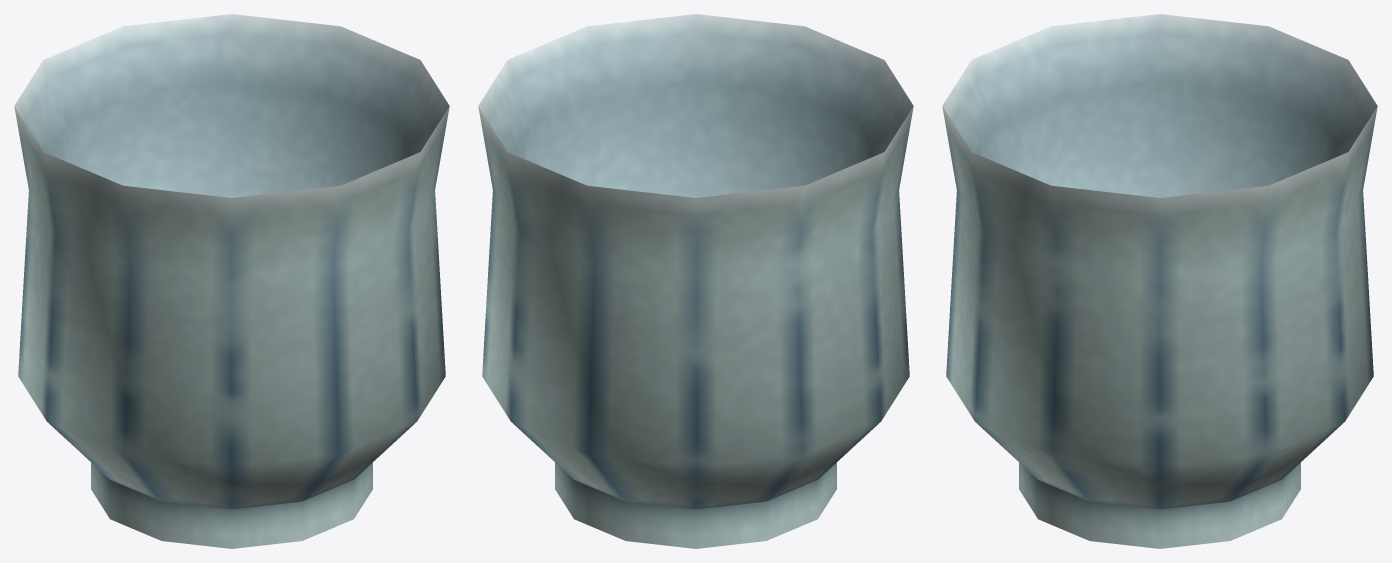
The model's file is KR_Tea_bowl_01_02.fbx.
3 views of the same model, side by side, from view 1: azimuth 30°, elevation 25°; view 2: azimuth 150°, elevation 25°; view 3: azimuth 270°, elevation 25° (orthographic).
Visible parts, largest first — view 1: kr_tea_bowl_01_02; view 2: kr_tea_bowl_01_02; view 3: kr_tea_bowl_01_02.
Part boxes in pixels (box(x1,y1,x2,y2)): kr_tea_bowl_01_02: box(14, 14, 449, 548); kr_tea_bowl_01_02: box(478, 14, 913, 548); kr_tea_bowl_01_02: box(942, 14, 1377, 548).
Bounding box in the file's own units: 7.72 × 7.5 × 7.72.
